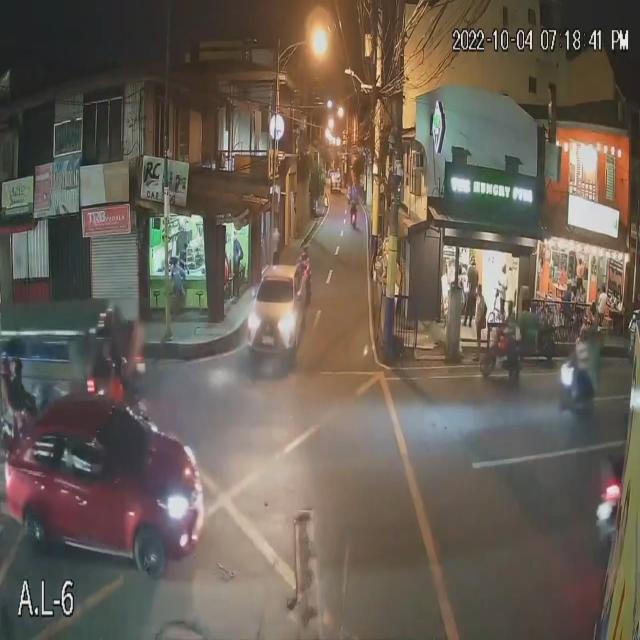Full-Faced: (0, 348, 13, 375), (10, 355, 26, 376)
